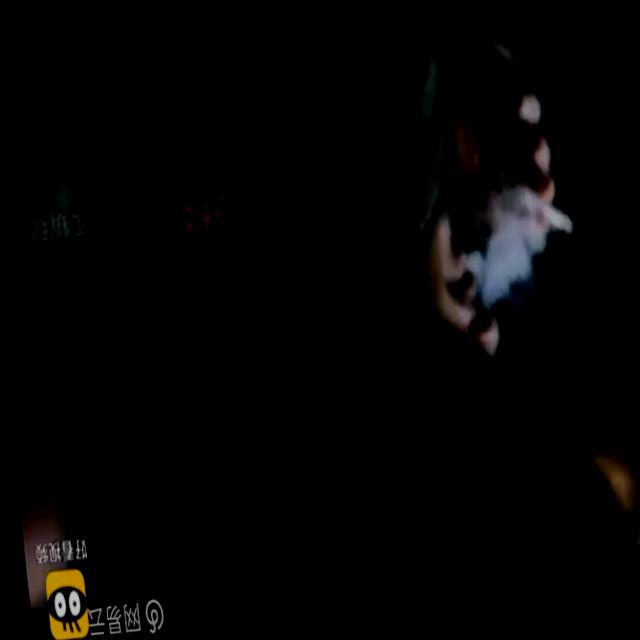smoke: (514, 174, 574, 245)
